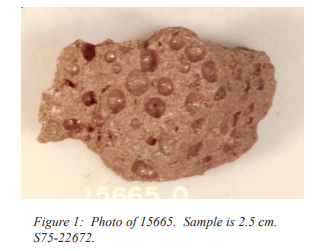Basalt: (24, 28, 295, 188)
